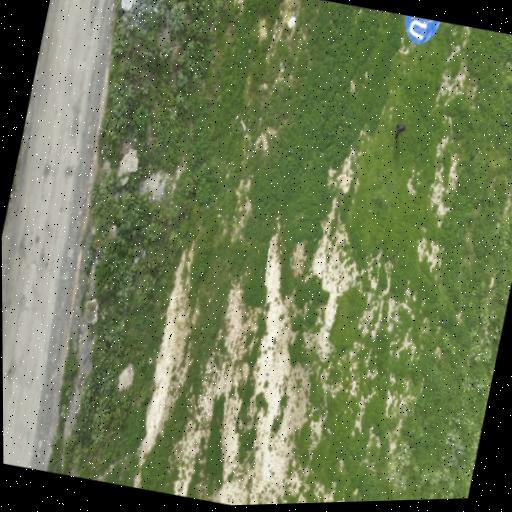person: (395, 123, 406, 140)
uap: (404, 14, 439, 43)
